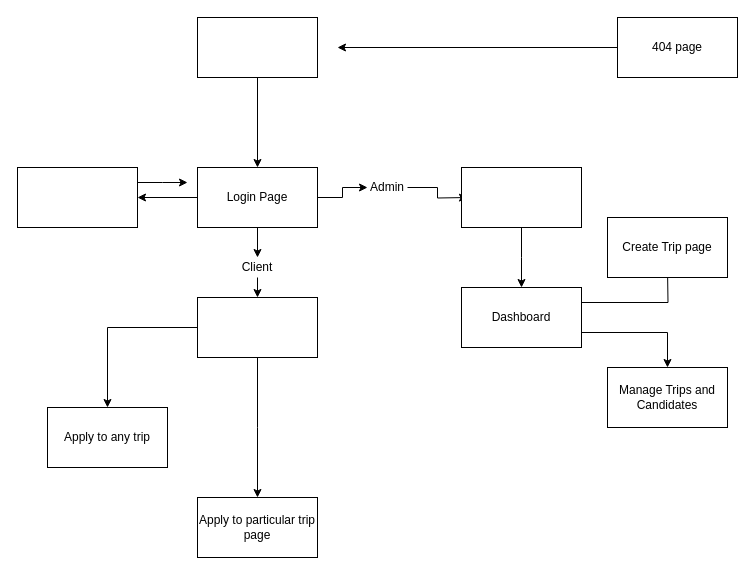
Some shapes in this 755 by 575 pixel diagram are drawn without their labels. The centre of each missing label's shape, as x and y in pixels:
"Client Sign Up" belongs at (77,197).
"Landing Page" belongs at (257,47).
"STAFF Login page" belongs at (521,197).
"Trips" belongs at (257,327).
